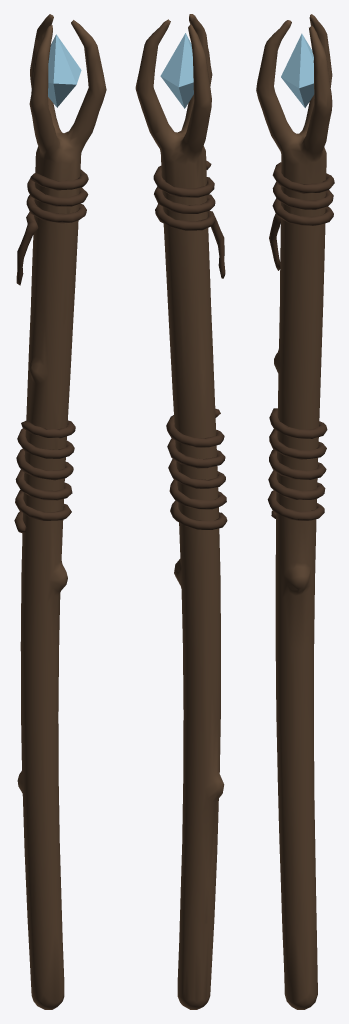
The model's file is Sceptre_P1.fbx.
3 renders of one model, left to right at view 1: azimuth 30°, elevation 25°; view 2: azimuth 210°, elevation 25°; view 3: azimuth 330°, elevation 25°, orthographic.
Parts seen in each view (by area): view 1: Sceptre_Bois, Sceptre_Cuir, Sceptre_Cristal; view 2: Sceptre_Bois, Sceptre_Cuir, Sceptre_Cristal; view 3: Sceptre_Bois, Sceptre_Cuir, Sceptre_Cristal.
Part boxes in pixels (left/top/right/bottom): Sceptre_Bois: left=17, top=14, right=106, bottom=1009; Sceptre_Cuir: left=14, top=169, right=88, bottom=532; Sceptre_Cristal: left=48, top=34, right=81, bottom=107; Sceptre_Bois: left=135, top=14, right=224, bottom=1009; Sceptre_Cuir: left=153, top=160, right=227, bottom=529; Sceptre_Cristal: left=160, top=33, right=193, bottom=108; Sceptre_Bois: left=256, top=14, right=332, bottom=1009; Sceptre_Cuir: left=267, top=162, right=334, bottom=520; Sceptre_Cristal: left=281, top=33, right=314, bottom=107.
Bounding box in the file's own units: 0.3508 × 4.47 × 0.321.
